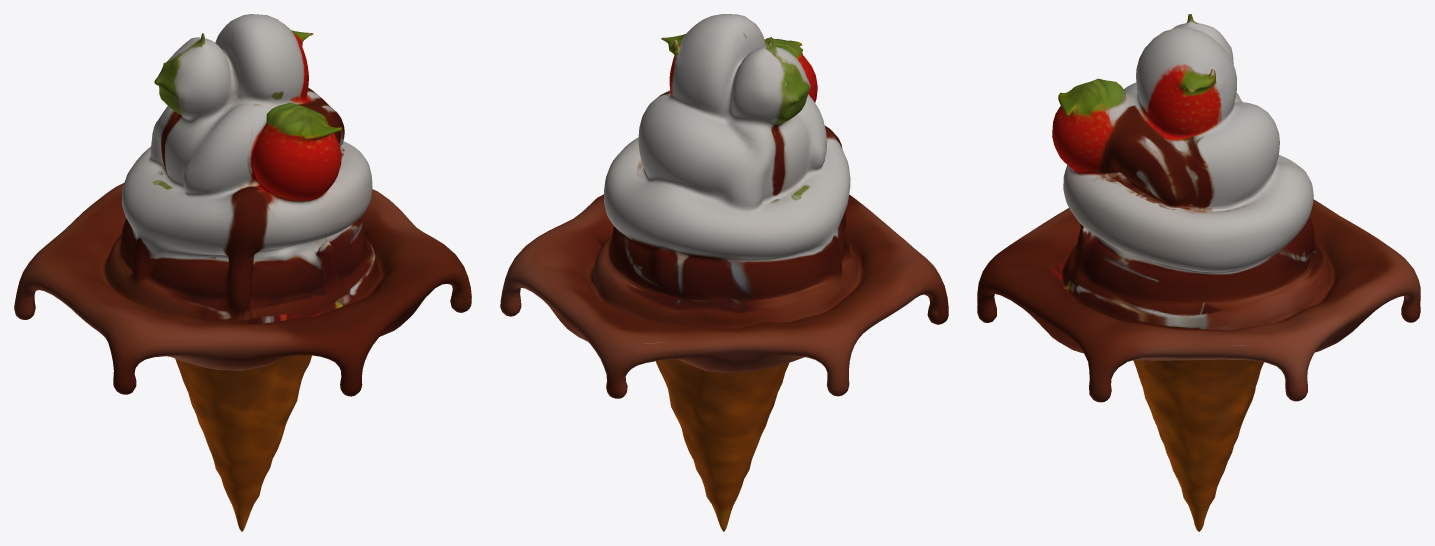
Rendered from icecream.glb.
3 views of the same model, side by side, from view 1: azimuth 30°, elevation 25°; view 2: azimuth 150°, elevation 25°; view 3: azimuth 270°, elevation 25° (orthographic). The views are drawn at different scales.
Visible parts, largest first — view 1: icecream; view 2: icecream; view 3: icecream.
Part boxes in pixels (left/top/right/bottom): icecream: left=14, top=14, right=471, bottom=531; icecream: left=500, top=14, right=948, bottom=531; icecream: left=977, top=14, right=1420, bottom=531.
Bounding box in the file's own units: 23.07 × 32.15 × 25.67.
1 material, 1 textured.
